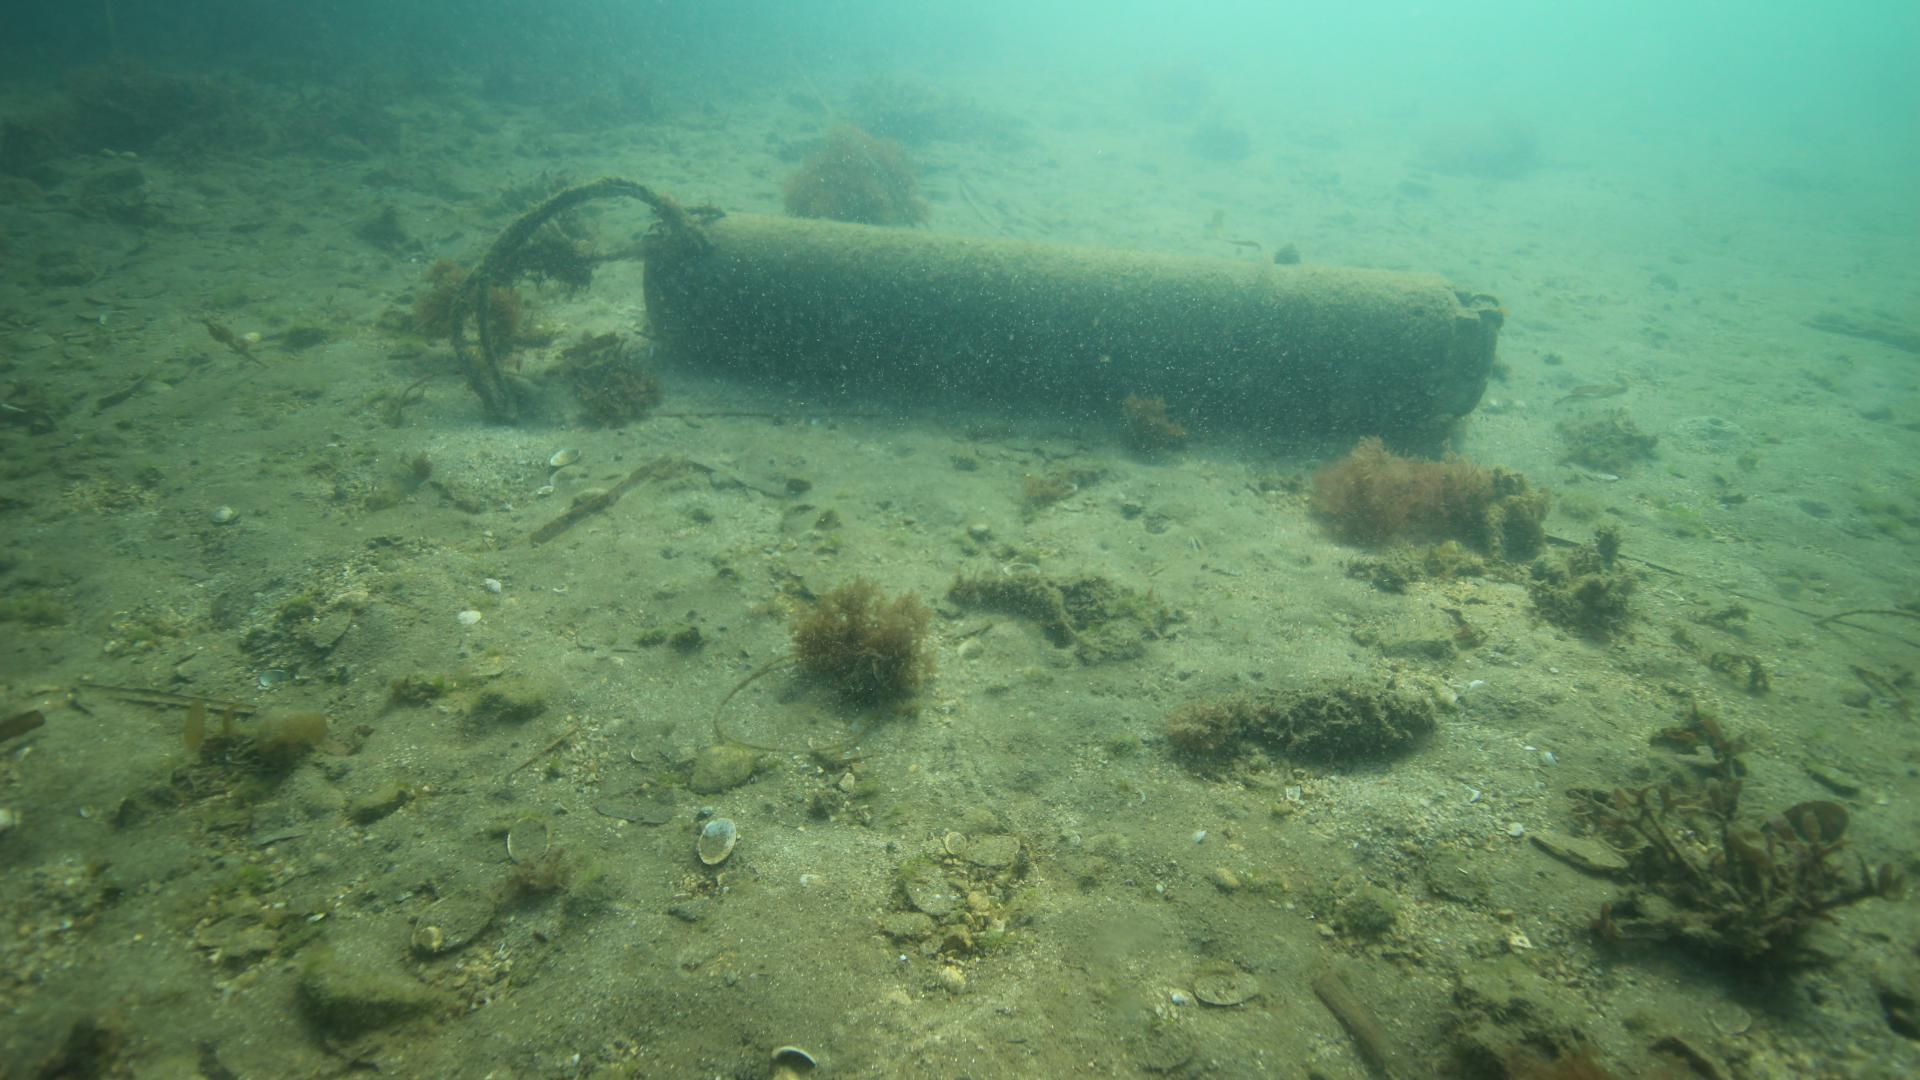bundle of ropes: (446, 171, 727, 419)
eel fish trap: (636, 202, 1510, 421)
